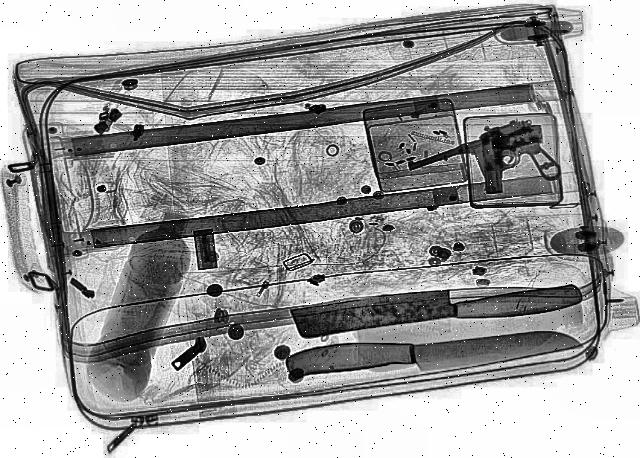Gun: (404, 120, 578, 218), (480, 121, 550, 195)
Knife: (284, 330, 586, 388), (282, 282, 590, 338)
